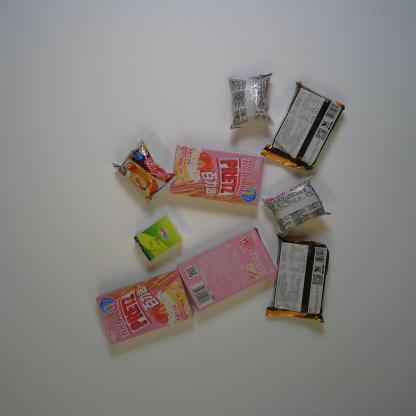Dessert: (174, 224, 278, 313), (259, 79, 346, 174), (93, 269, 197, 348), (264, 232, 332, 325), (169, 143, 266, 208), (260, 174, 332, 238), (111, 138, 178, 204), (225, 72, 275, 130)
Tissue: (132, 215, 186, 263)
